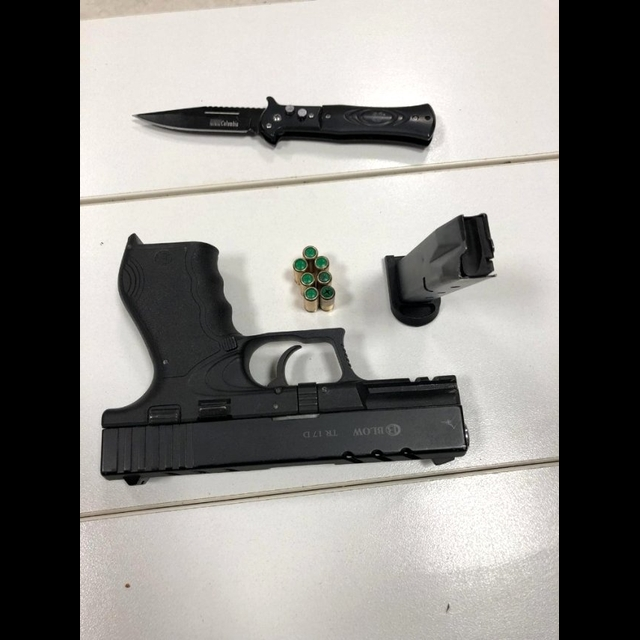SILAH: (95, 228, 481, 487)
